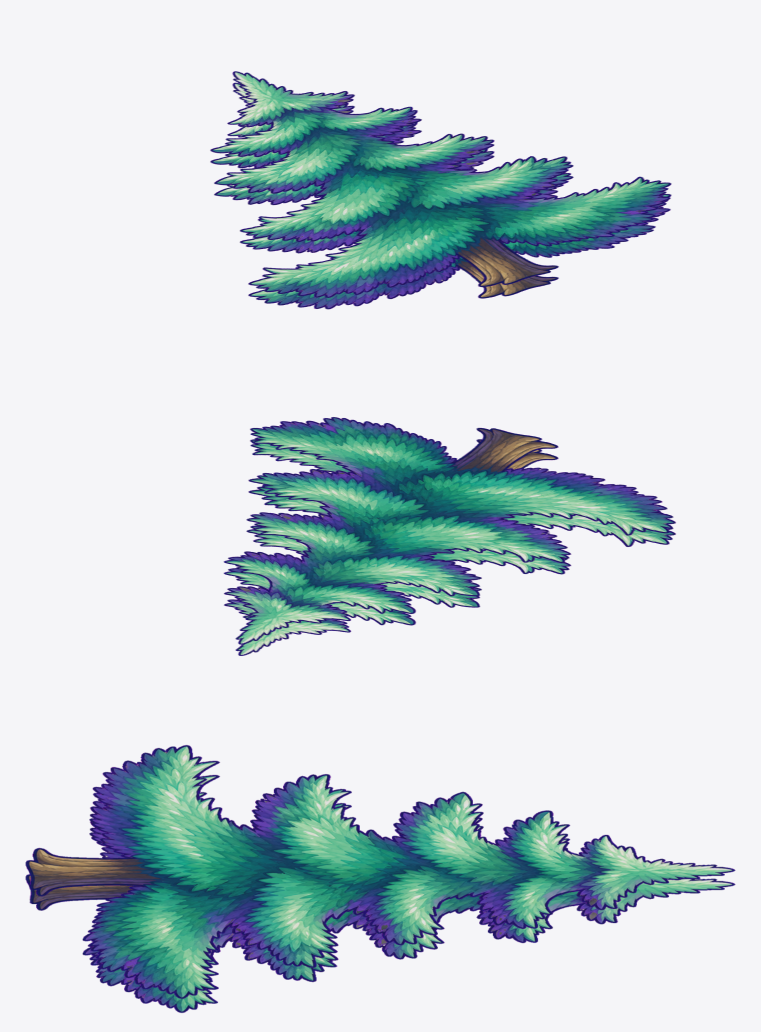
The model's file is xtree.glb.
The picture shows the model from 3 angles, top to bottom: view 1: azimuth 30°, elevation 25°; view 2: azimuth 150°, elevation 25°; view 3: azimuth 270°, elevation 25°; orthographic projection. The views are drawn at different scales.
Parts seen in each view (by area): view 1: xtree; view 2: xtree; view 3: xtree.
Boxes of the visible parts, x1,y1,x2,y2 form: xtree: [210, 71, 671, 309]; xtree: [223, 417, 675, 655]; xtree: [25, 745, 735, 1012].
Bounding box in the file's own units: 2 × 0.05 × 2.35.
1 material, 1 textured.
